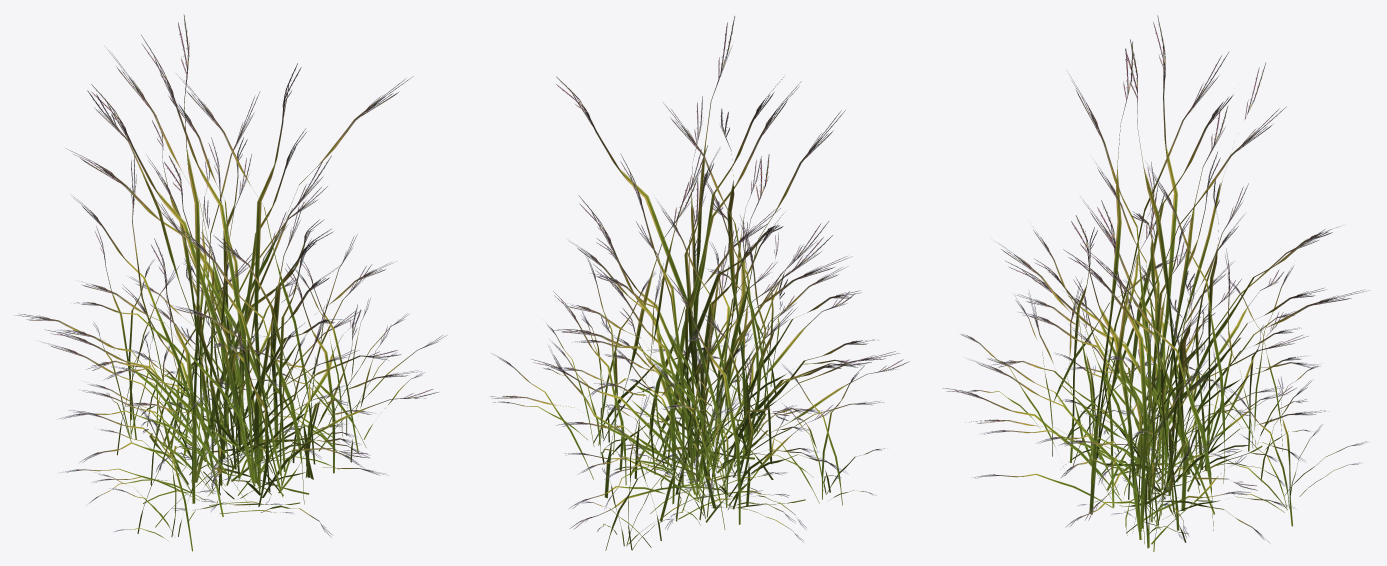
Rendered from Big_Bluestem.glb.
The picture shows the model from 3 angles, left to right: view 1: azimuth 30°, elevation 25°; view 2: azimuth 150°, elevation 25°; view 3: azimuth 270°, elevation 25°; orthographic projection. The views are drawn at different scales.
Visible parts, largest first — view 1: Bluestem_Grass; view 2: Bluestem_Grass; view 3: Bluestem_Grass.
Part boxes in pixels (box(x1,y1,x2,y2)): Bluestem_Grass: box(14, 14, 447, 551); Bluestem_Grass: box(490, 16, 909, 550); Bluestem_Grass: box(943, 15, 1369, 551).
Bounding box in the file's own units: 5.17 × 5.89 × 5.06.
1 material, 1 textured.
